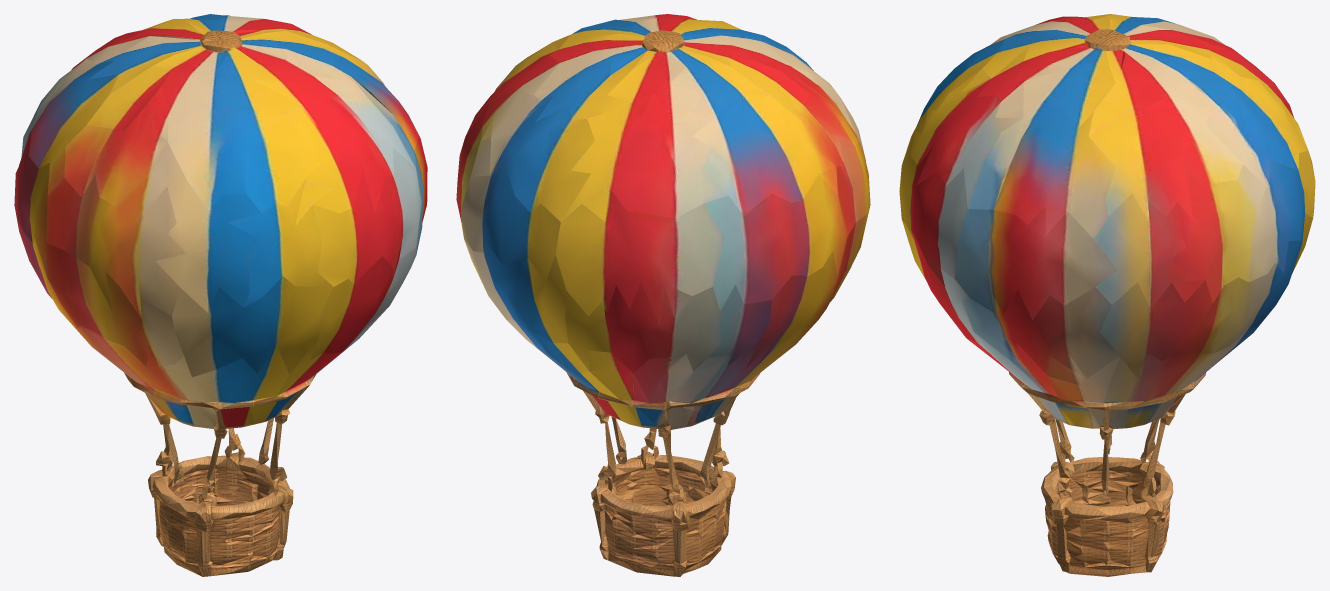
The model's file is hot_air_balloon.glb.
3 renders of one model, left to right at view 1: azimuth 30°, elevation 25°; view 2: azimuth 150°, elevation 25°; view 3: azimuth 270°, elevation 25°, orthographic.
Size of the model in its own units: 1.38 by 1.9 by 1.38.
1 material, 1 textured.
